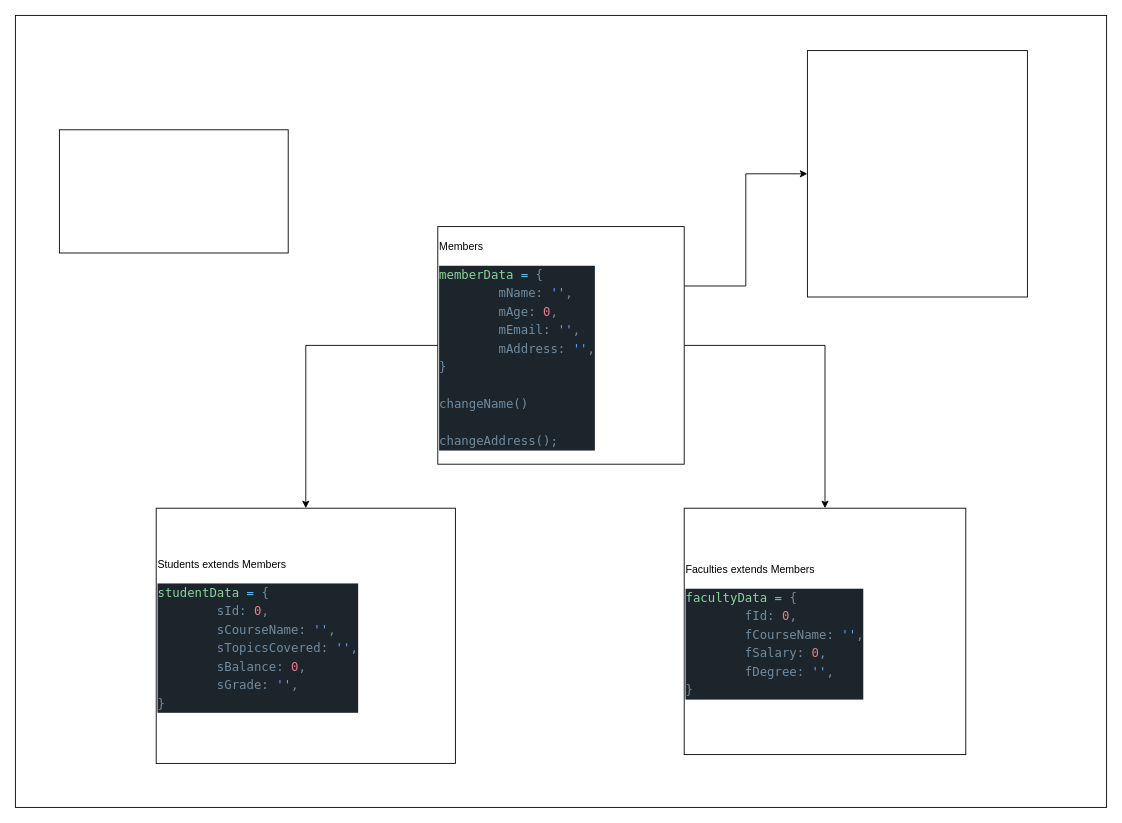
This 1122x823 diagram has some shape labels left out. The shapes that lost their labels are listed below. From the top down, each one's centre as x and y in pixels, then its label:
At (x=173, y=191): "s1.changeName(); f1.changeName();".
At (x=917, y=173): "Admin extends Members AdminData = { aId: 0 , aSalary: 0 , aDegree: '' , }".
